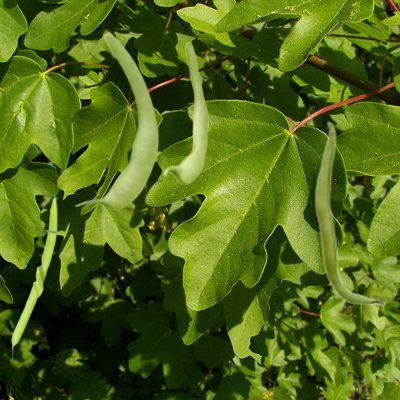french_bean: (74, 30, 158, 208), (313, 120, 386, 306), (9, 194, 58, 364), (163, 41, 207, 183)
